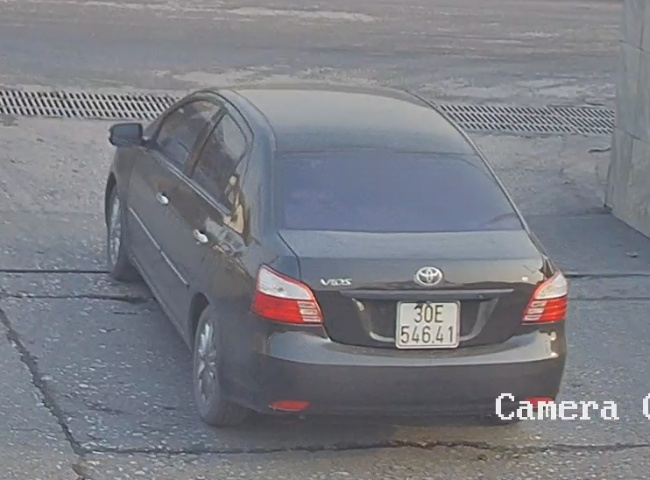vehicle plate: (394, 296, 463, 352)
